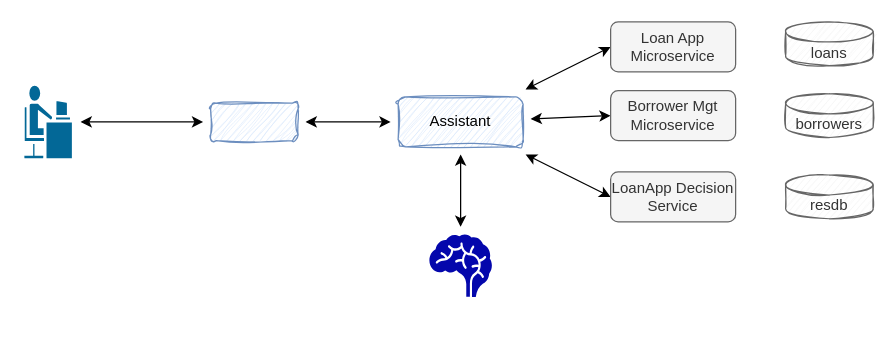
Some shapes in this 895 by 343 pixel diagram are drawn without their labels. Each missing label, with the centre of its shape:
ChatBot: (x=253, y=121)
LLM: (x=460, y=265)
